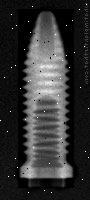Neodent: (14, 8, 74, 189)
